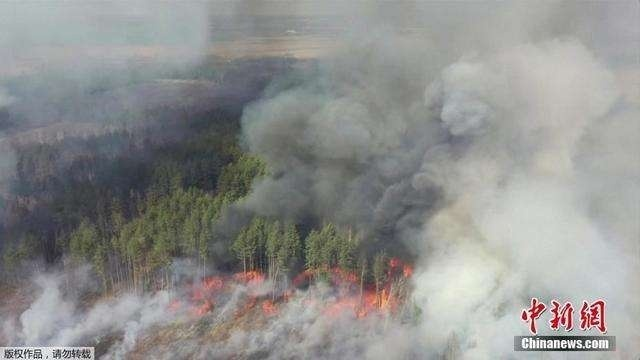fire: (176, 261, 411, 322)
